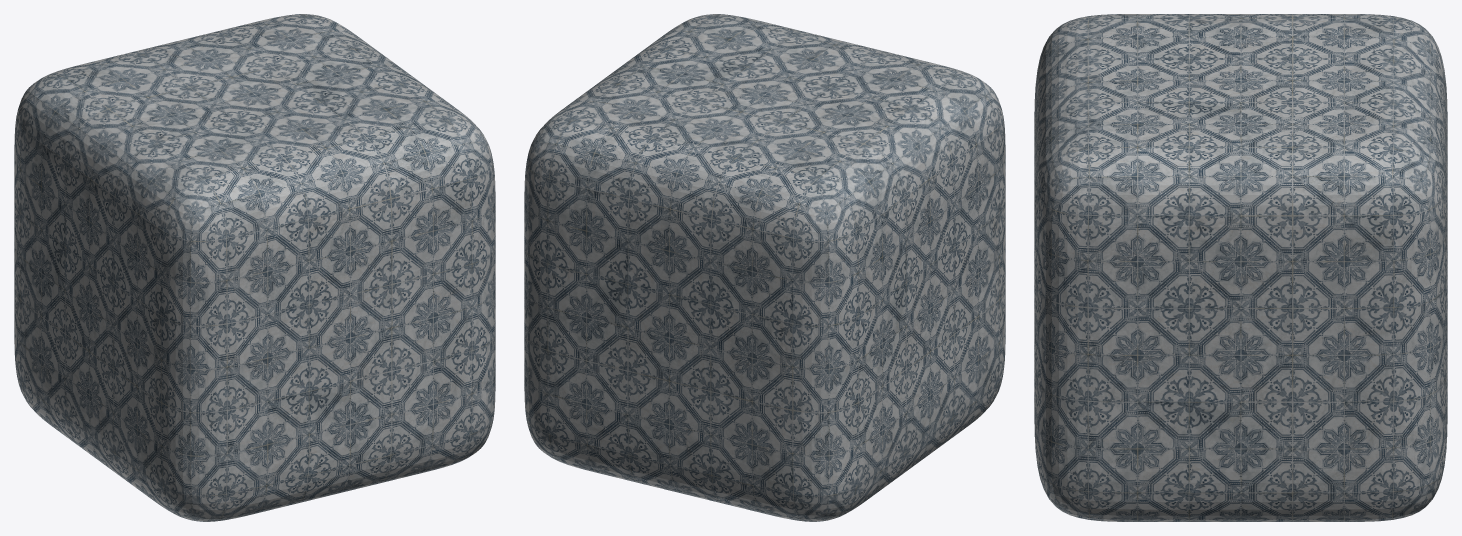
3 views of the same model, side by side, from view 1: azimuth 30°, elevation 25°; view 2: azimuth 150°, elevation 25°; view 3: azimuth 270°, elevation 25° (orthographic). The views are drawn at different scales.
Parts seen in each view (by area): view 1: Cube; view 2: Cube; view 3: Cube.
Boxes of the visible parts, x1,y1,x2,y2 form: Cube: (14,14,495,521); Cube: (524,14,1005,521); Cube: (1034,14,1447,521).
Bounding box in the file's own units: 2 × 2 × 2.
Materials: 1 (1 with a texture image).
